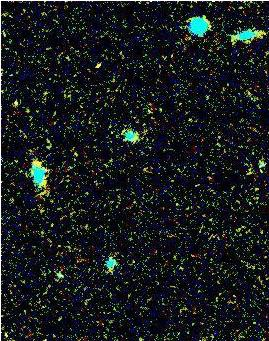star: (90, 51, 120, 81)
